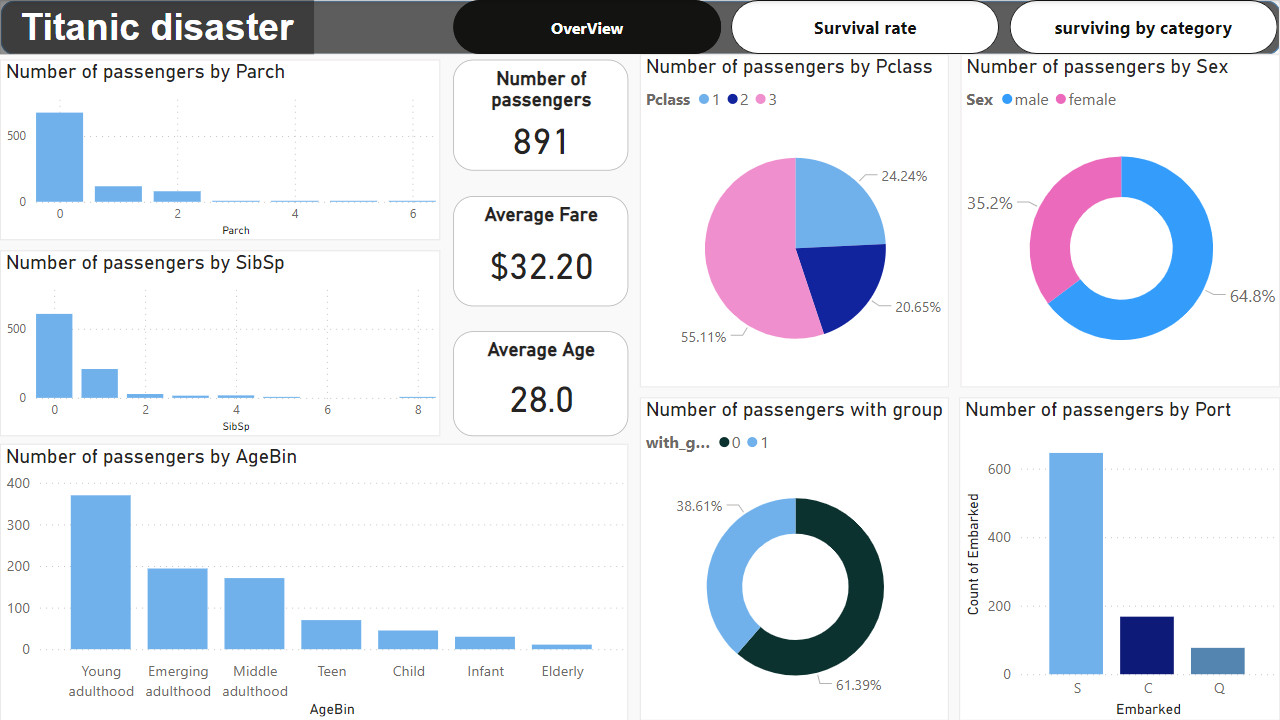

The dashboard page shown, as its layout file describes it:
{"tool":"powerbi","page":{"name":"OverView","canvas":[1280,720],"ordinal":0},"visuals":[{"type":"shape","box":[0,0,1279.5,54],"z":0},{"type":"pieChart","title":"Number of passengers by Pclass","fields":{"Category":["EDA.Pclass"],"Y":["CountNonNull(EDA.Pclass)"]},"box":[639.7,54.3,308.6,332.5],"z":1000},{"type":"donutChart","title":"Number of passengers by Sex","fields":{"Category":["EDA.Sex"],"Y":["CountNonNull(EDA.Sex)"]},"box":[960.3,54.3,319.2,332.5],"z":2000},{"type":"clusteredColumnChart","title":"Number of passengers by AgeBin","fields":{"Category":["EDA.AgeBin"],"Y":["CountNonNull(EDA.AgeBin)"]},"box":[0,443.7,627.8,276.8],"z":3000},{"type":"clusteredColumnChart","title":"Number of passengers by Port","fields":{"Category":["EDA.Embarked"],"Y":["CountNonNull(EDA.Embarked)"]},"box":[959,397.4,320.5,323.2],"z":4000},{"type":"donutChart","title":"Number of passengers with group","fields":{"Category":["EDA.with_group"],"Y":["CountNonNull(EDA.with_group)"]},"box":[639.7,397.4,308.6,323.2],"z":5000},{"type":"card","title":"Number of passengers","fields":{"Values":["CountNonNull(EDA.Sex)"]},"box":[453,59.6,174.8,111.3],"z":6000},{"type":"card","title":"Average Fare","fields":{"Values":["Avg(EDA.Fare)"]},"box":[453,196,174.8,109.9],"z":7000},{"type":"card","title":"Average Age","fields":{"Values":["Median(EDA.Age)"]},"box":[453,331.1,174.8,104.6],"z":8000},{"type":"textbox","box":[0,0,313.9,54.3],"z":9000},{"type":"clusteredColumnChart","title":"Number of passengers by Parch","fields":{"Y":["CountNonNull(EDA.Parch)"],"Category":["EDA.Parch"]},"box":[0,59.6,439.7,180.1],"z":10000},{"type":"clusteredColumnChart","title":"Number of passengers by SibSp","fields":{"Y":["CountNonNull(EDA.SibSp)"],"Category":["EDA.SibSp"]},"box":[0,250.3,439.7,185.4],"z":11000},{"type":"bookmarkNavigator","box":[453,0,826.5,54.3],"z":12000}]}

Visuals, with their boxes in screenshot pixels (x1, y1, x2, y2), scaled from the page's 1280x720 canvas onto the 1280x720 screenshot:
shape: region(0, 0, 1279, 54)
"Number of passengers by Pclass" pieChart: region(640, 54, 948, 387)
"Number of passengers by Sex" donutChart: region(960, 54, 1279, 387)
"Number of passengers by AgeBin" clusteredColumnChart: region(0, 444, 628, 719)
"Number of passengers by Port" clusteredColumnChart: region(959, 397, 1279, 719)
"Number of passengers with group" donutChart: region(640, 397, 948, 719)
"Number of passengers" card: region(453, 60, 628, 171)
"Average Fare" card: region(453, 196, 628, 306)
"Average Age" card: region(453, 331, 628, 436)
textbox: region(0, 0, 314, 54)
"Number of passengers by Parch" clusteredColumnChart: region(0, 60, 440, 240)
"Number of passengers by SibSp" clusteredColumnChart: region(0, 250, 440, 436)
bookmarkNavigator: region(453, 0, 1279, 54)
